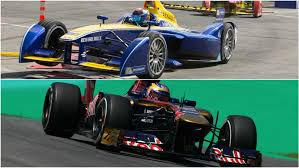FormulaOneCar: (40, 78, 264, 168)
